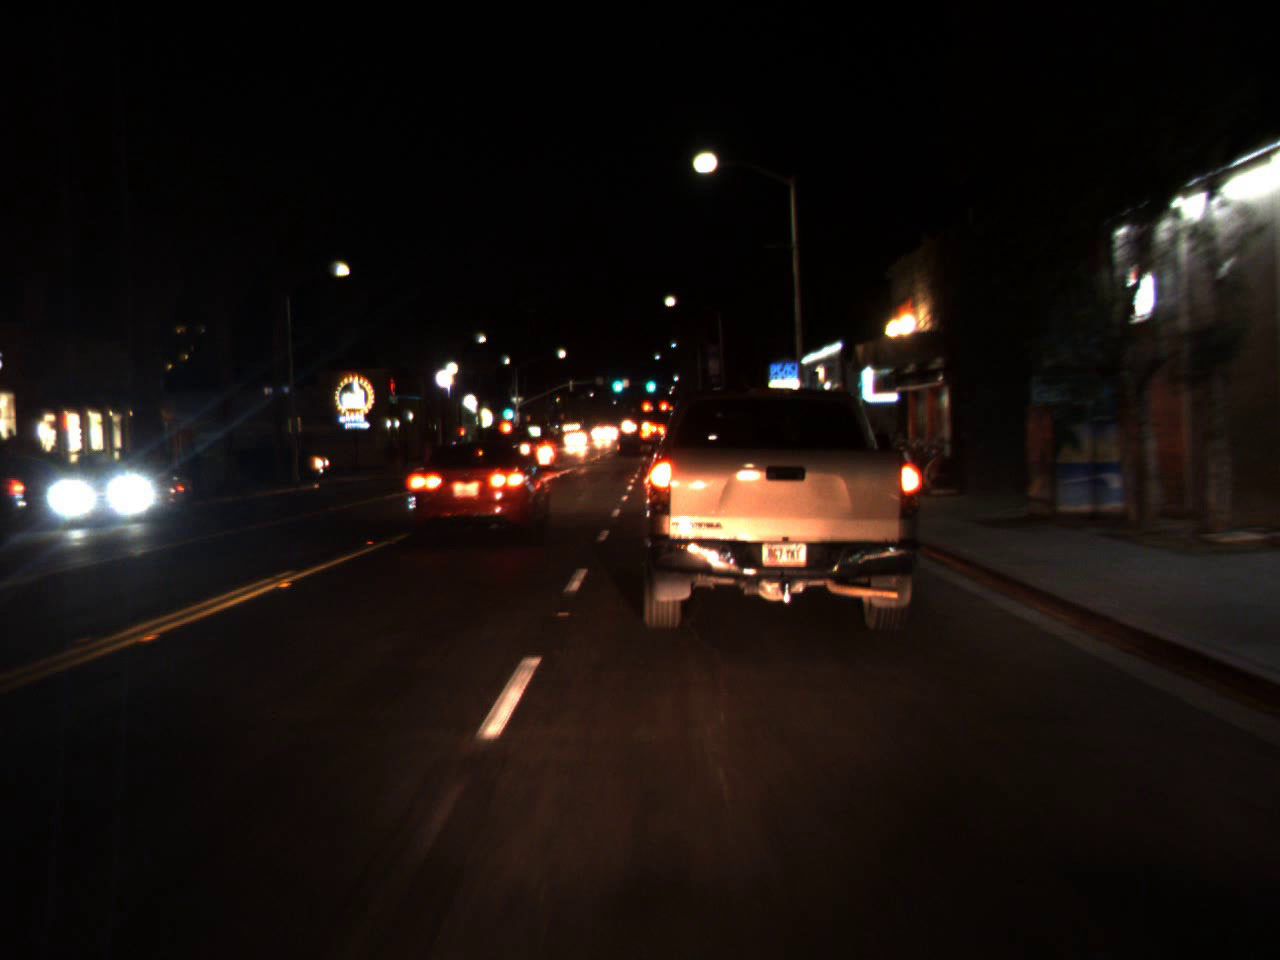go: (607, 364, 626, 397), (643, 368, 657, 395), (499, 398, 515, 422)
